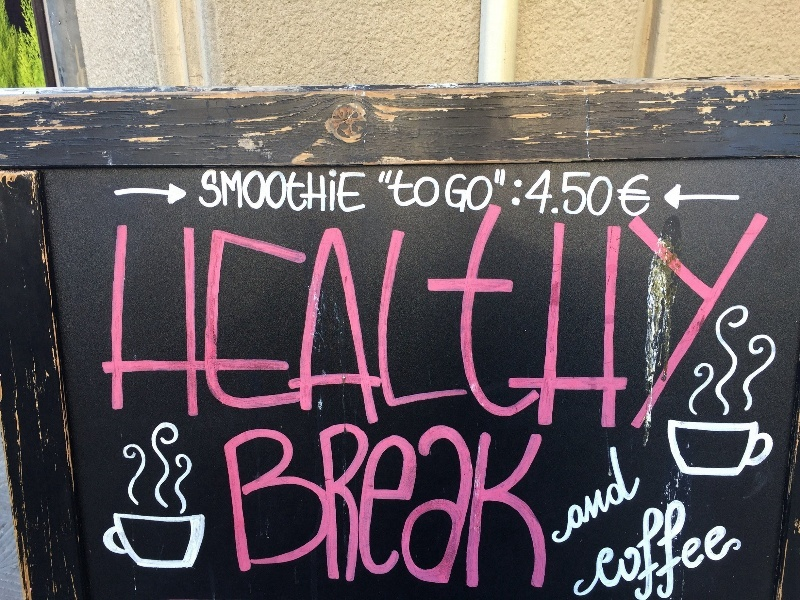text: (113, 190, 128, 433), (129, 190, 144, 433), (145, 190, 160, 433), (161, 190, 176, 433), (177, 190, 192, 433), (193, 190, 208, 433), (209, 190, 224, 433), (225, 190, 240, 433), (241, 190, 256, 433), (257, 190, 272, 433), (273, 190, 288, 433), (289, 190, 304, 433), (305, 190, 320, 433), (321, 190, 336, 433), (337, 190, 352, 433), (353, 190, 368, 433), (369, 190, 384, 433), (385, 190, 400, 433), (401, 190, 416, 433), (417, 190, 432, 433), (433, 190, 448, 433), (449, 190, 464, 433), (465, 190, 480, 433), (481, 190, 496, 433), (497, 190, 512, 433), (513, 190, 528, 433), (529, 190, 544, 433), (545, 190, 560, 433), (561, 190, 576, 433), (577, 190, 592, 433), (593, 190, 608, 433), (609, 190, 624, 433), (625, 190, 640, 433), (641, 190, 656, 433), (657, 190, 672, 433), (673, 190, 688, 433), (689, 190, 704, 433), (705, 190, 720, 433), (721, 190, 736, 433), (737, 190, 752, 433), (753, 190, 768, 433), (225, 417, 240, 594), (241, 417, 256, 594), (257, 417, 272, 594), (273, 417, 288, 594), (289, 417, 304, 594), (305, 417, 320, 594), (321, 417, 336, 594), (337, 417, 352, 594), (353, 417, 368, 594), (369, 417, 384, 594), (385, 417, 400, 594), (401, 417, 416, 594), (417, 417, 432, 594), (433, 417, 448, 594), (449, 417, 464, 594), (465, 417, 480, 594), (481, 417, 496, 594), (497, 417, 512, 594), (513, 417, 528, 594), (529, 417, 544, 594), (545, 417, 560, 594), (102, 190, 112, 433), (769, 190, 779, 433), (545, 435, 560, 550), (561, 435, 576, 550), (577, 435, 592, 550), (593, 435, 608, 550), (609, 435, 624, 550), (625, 435, 640, 550), (577, 498, 592, 599), (593, 498, 608, 599), (609, 498, 624, 599), (625, 498, 640, 599), (641, 498, 656, 599), (657, 498, 672, 599), (673, 498, 688, 599), (689, 498, 704, 599), (705, 498, 720, 599), (721, 498, 736, 599), (737, 498, 745, 599), (209, 168, 224, 218), (225, 168, 240, 218), (241, 168, 256, 218), (257, 168, 272, 218), (273, 168, 288, 218), (289, 168, 304, 218), (305, 168, 320, 218), (321, 168, 336, 218), (337, 168, 352, 218), (353, 168, 368, 218), (369, 168, 384, 218), (385, 168, 400, 218), (401, 168, 416, 218), (417, 168, 432, 218), (433, 168, 448, 218), (449, 168, 464, 218), (465, 168, 480, 218), (481, 168, 496, 218), (497, 168, 512, 218), (513, 168, 528, 218), (529, 168, 544, 218), (545, 168, 560, 218), (561, 168, 576, 218), (577, 168, 592, 218), (593, 168, 608, 218), (609, 168, 624, 218), (625, 168, 640, 218), (641, 168, 655, 218), (538, 435, 544, 550), (641, 435, 646, 550), (221, 417, 224, 594), (200, 168, 208, 218), (561, 417, 563, 594), (575, 498, 576, 599)
